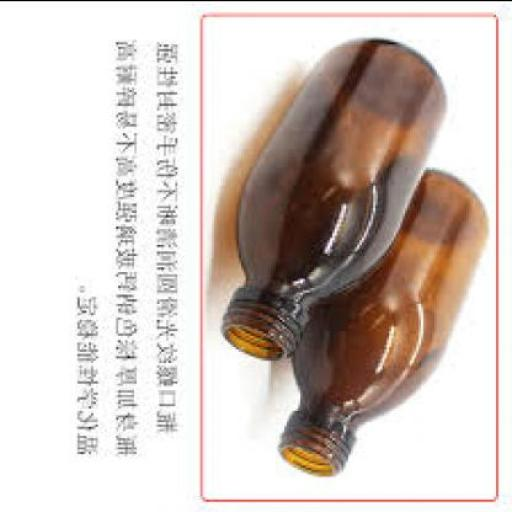glass: (226, 41, 450, 364), (280, 168, 494, 476)
